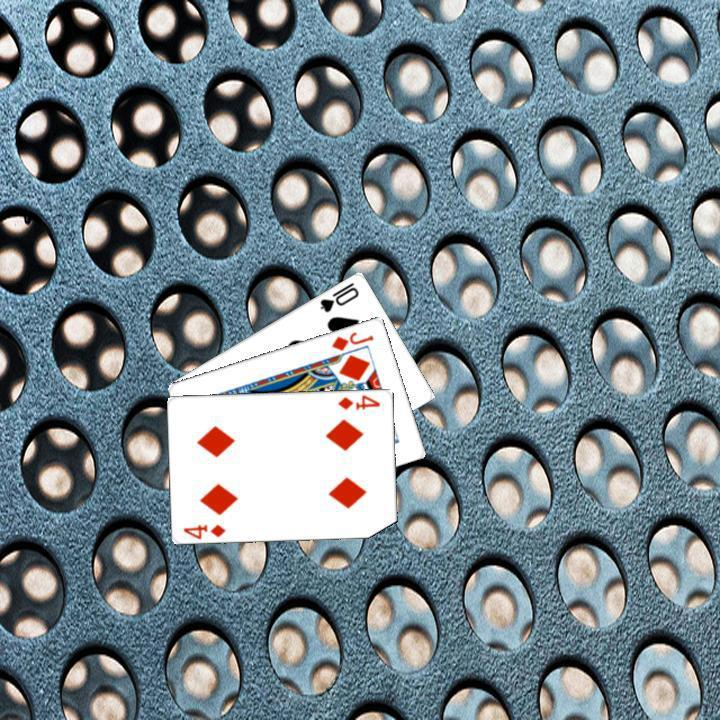10: (315, 278, 361, 314)
4: (334, 391, 382, 411), (180, 520, 228, 540)
J: (327, 327, 376, 352)
